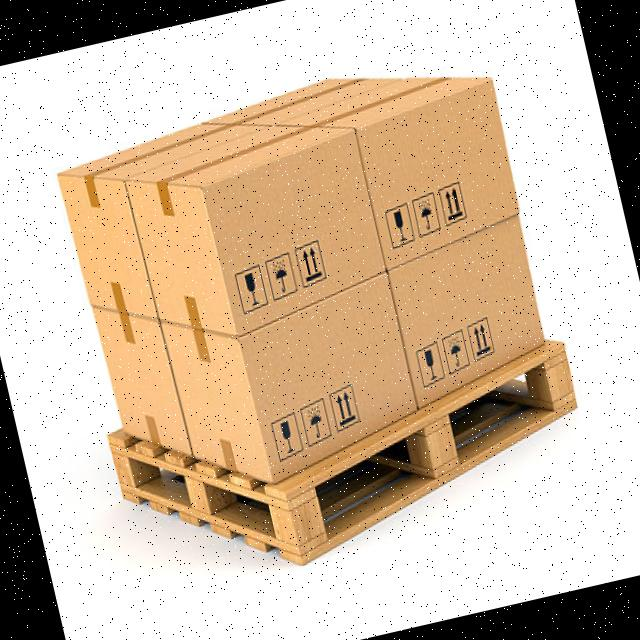Wooden-Pallets: (107, 341, 586, 565)
